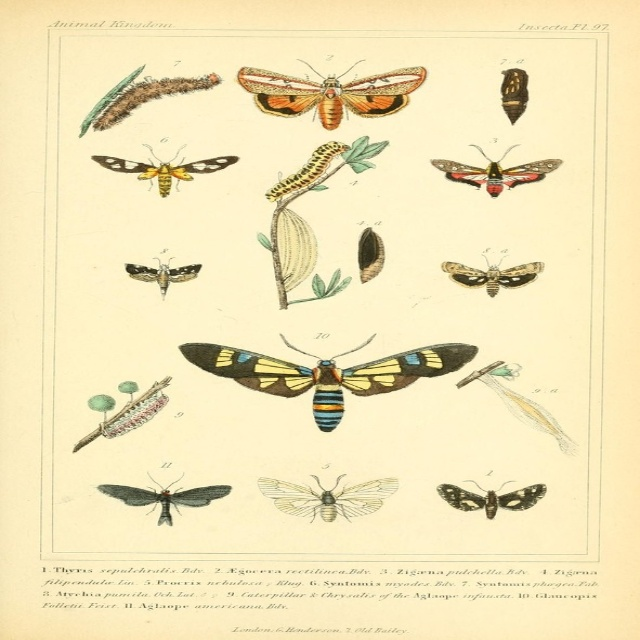Butterfly: (164, 319, 496, 441), (236, 59, 425, 128), (242, 470, 406, 533), (83, 141, 236, 201), (422, 140, 569, 195), (100, 469, 239, 527), (432, 248, 549, 305), (438, 469, 557, 519), (121, 254, 220, 295)
